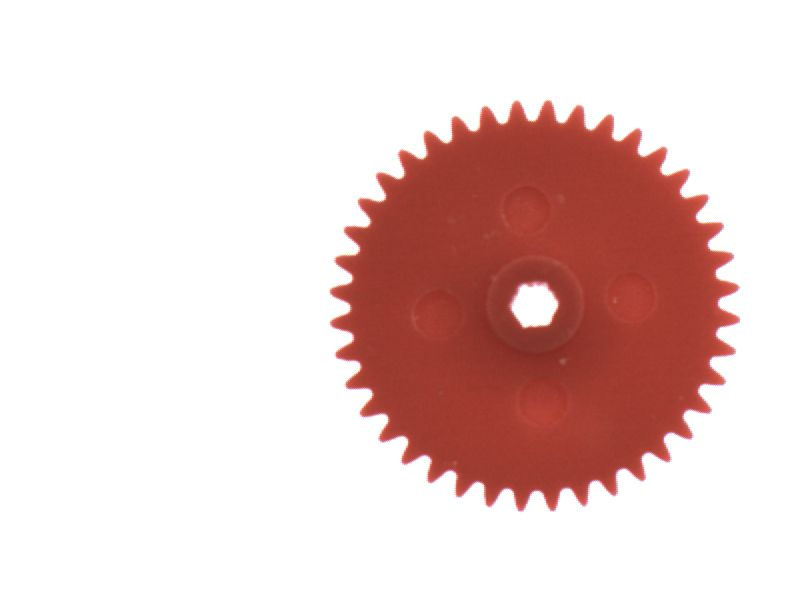good_product: (320, 87, 754, 525)
